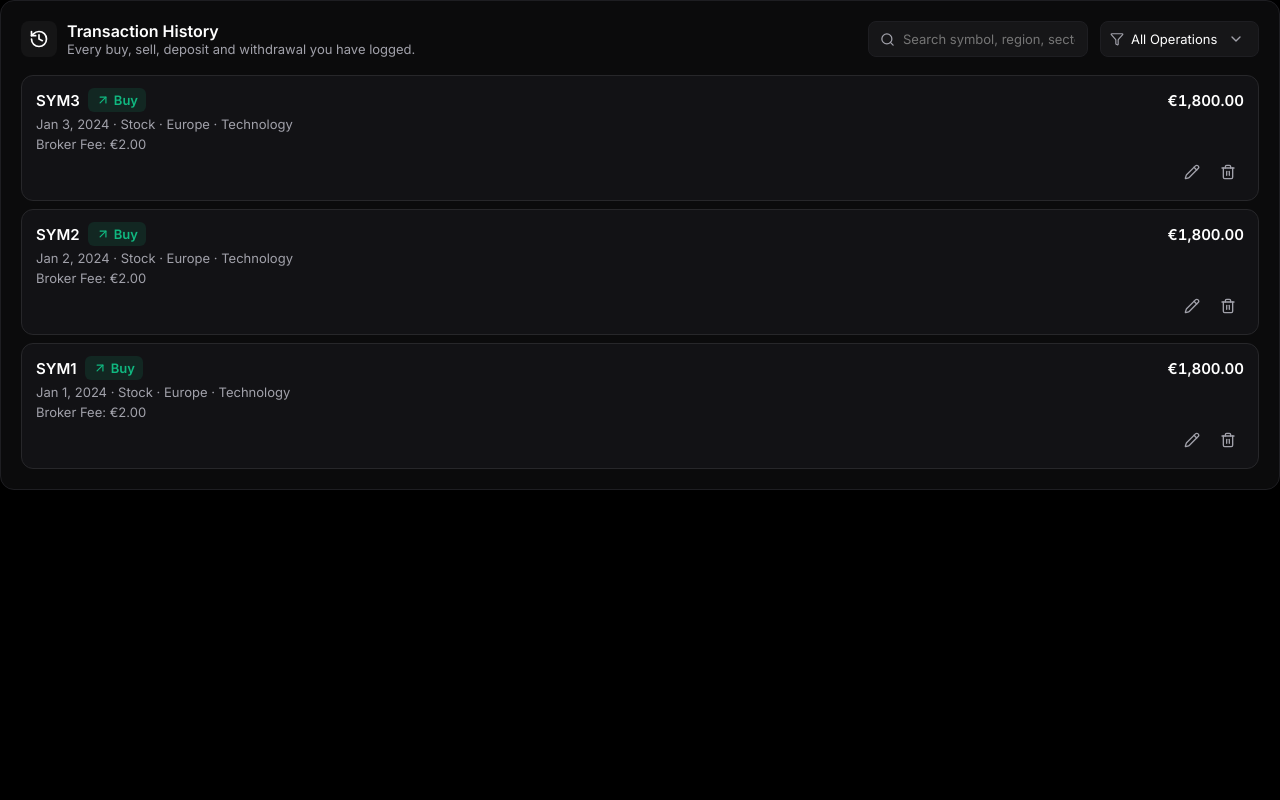
it: removing a transaction › removes it on Delete, then reloads the list, tells the home to refresh and says it is done
The width and height of the screenshot is (1280, 800).
What coordinates should you click on to do the following:
click the button named "Delete Buy SYM2, Jan 2, 2024"
I would click on:
 (1228, 306)
Its box is 1212,290 -> 1244,322.
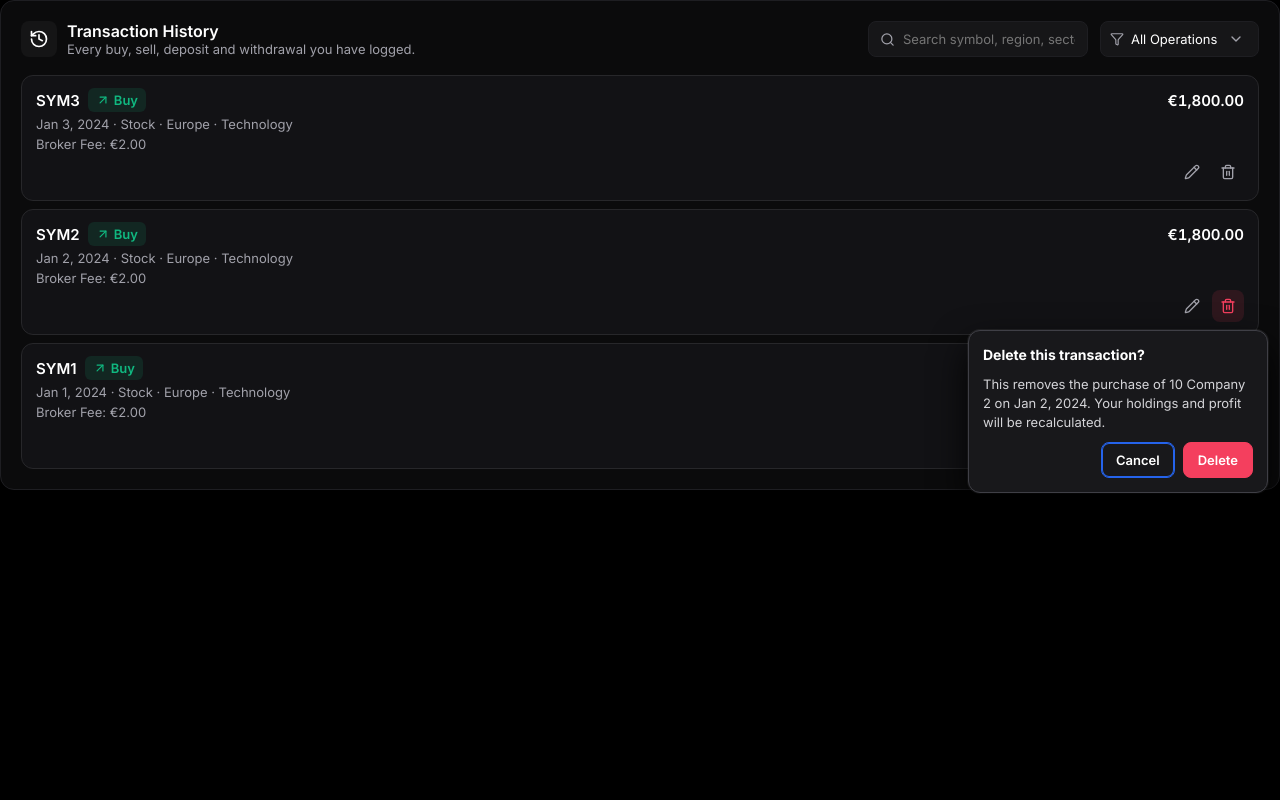
What coordinates should you click on to do the following:
click the button "Delete"
I would click on:
 (1218, 460)
Its box is 1183,442 -> 1253,478.
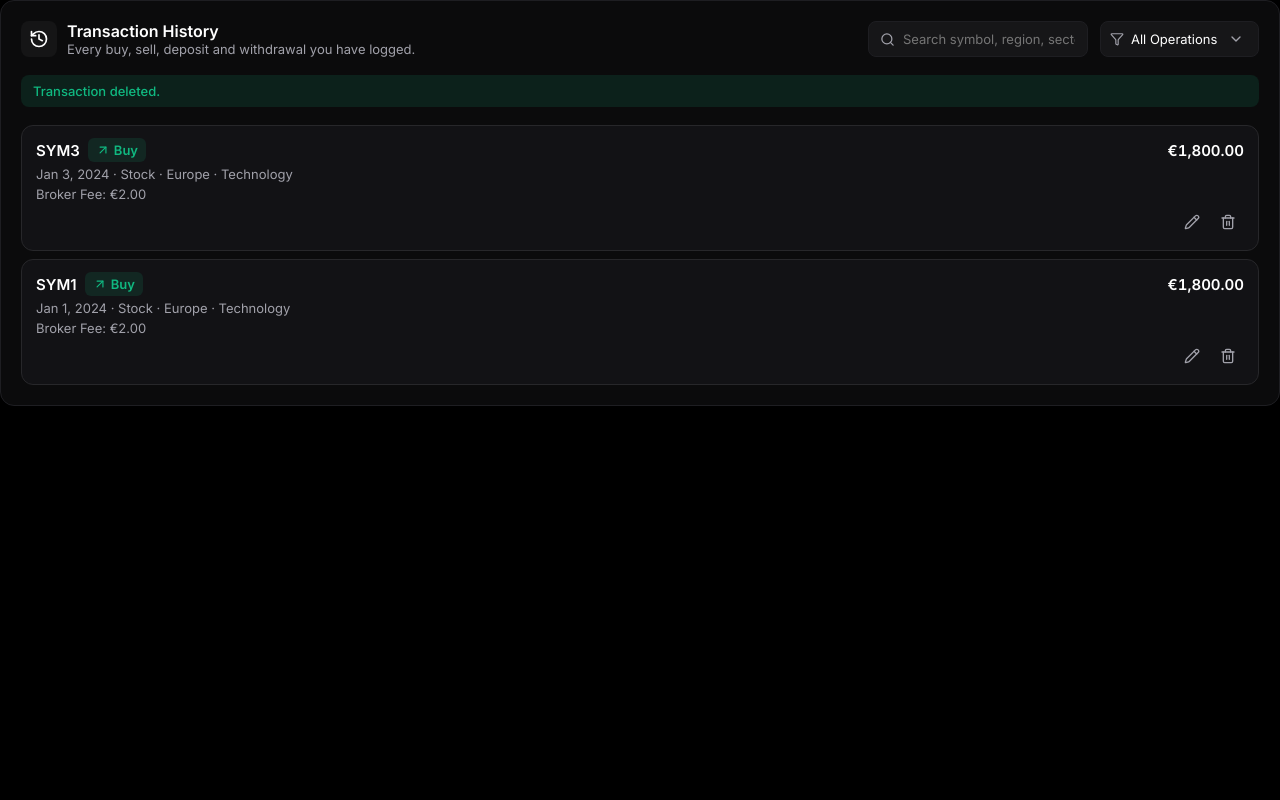
Expected: the text "SYM2" is gone
Expected: the message reads "Transaction deleted.", 33,83 -> 160,99
Expected: the dialog is gone
